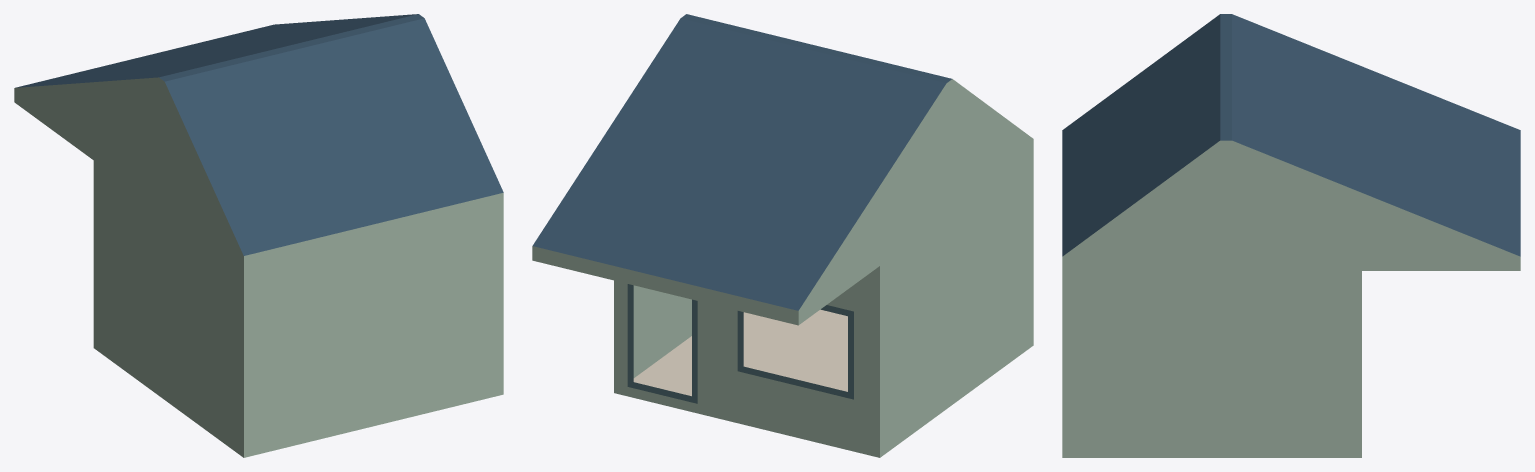
Rendered from shop.glb.
3 views of the same model, side by side, from view 1: azimuth 30°, elevation 25°; view 2: azimuth 150°, elevation 25°; view 3: azimuth 270°, elevation 25° (orthographic). The views are drawn at different scales.
Parts seen in each view (by area): view 1: shop; view 2: shop; view 3: shop.
Part boxes in pixels (x1,y1,x2,y2): shop: (14,14,503,457); shop: (532,14,1033,457); shop: (1062,14,1520,457).
Size of the model in its own units: 2 by 2.34 by 3.06.
1 material, 1 textured.
